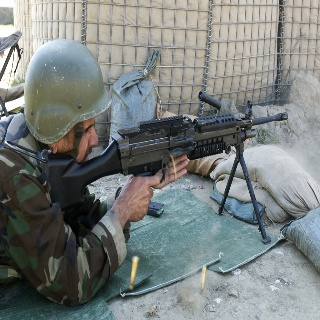rifle: (38, 88, 294, 247)
